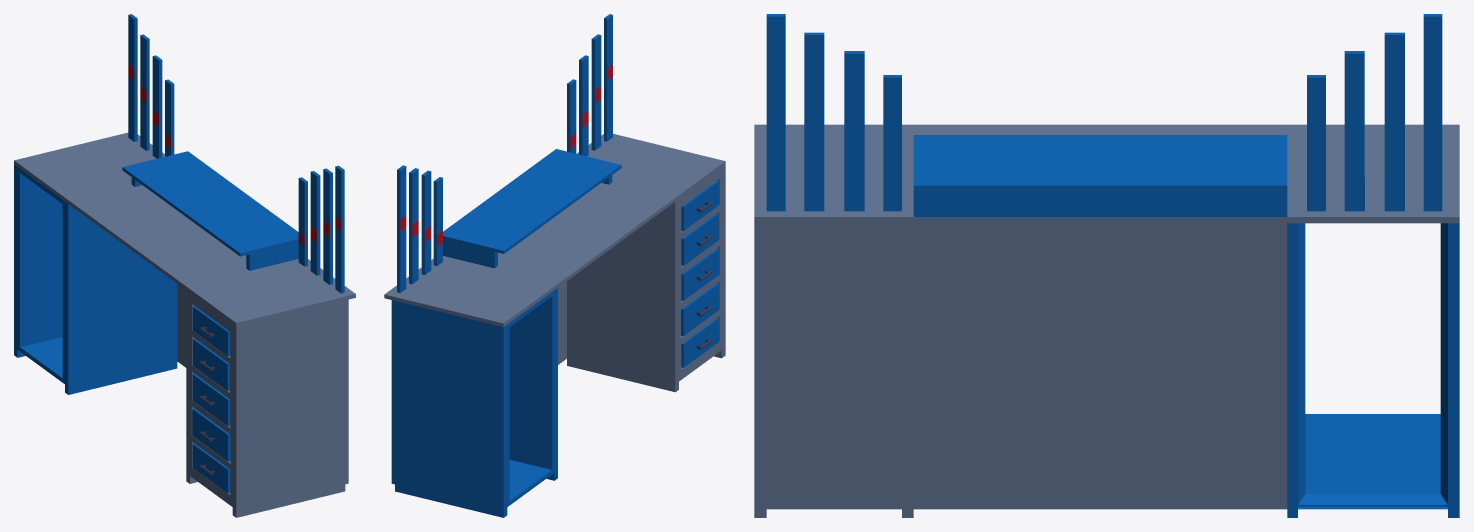
The model's file is tabel.glb.
The picture shows the model from 3 angles, left to right: view 1: azimuth 30°, elevation 25°; view 2: azimuth 150°, elevation 25°; view 3: azimuth 270°, elevation 25°; orthographic projection. The views are drawn at different scales.
Visible parts, largest first — view 1: Body_2<Wood2>, Body_1<Wood>, Body_4<Glass>; view 2: Body_2<Wood2>, Body_1<Wood>, Body_4<Glass>; view 3: Body_1<Wood>, Body_2<Wood2>.
Part boxes in pixels (x1,y1,x2,y2): Body_2<Wood2>: [14, 14, 344, 493]; Body_1<Wood>: [14, 132, 355, 517]; Body_4<Glass>: [128, 64, 341, 246]; Body_2<Wood2>: [391, 14, 718, 517]; Body_1<Wood>: [384, 133, 725, 392]; Body_4<Glass>: [400, 64, 612, 246]; Body_1<Wood>: [754, 124, 1459, 517]; Body_2<Wood2>: [766, 14, 1459, 517].
Bounding box in the file's own units: 2.58 × 6.24 × 7.91.
